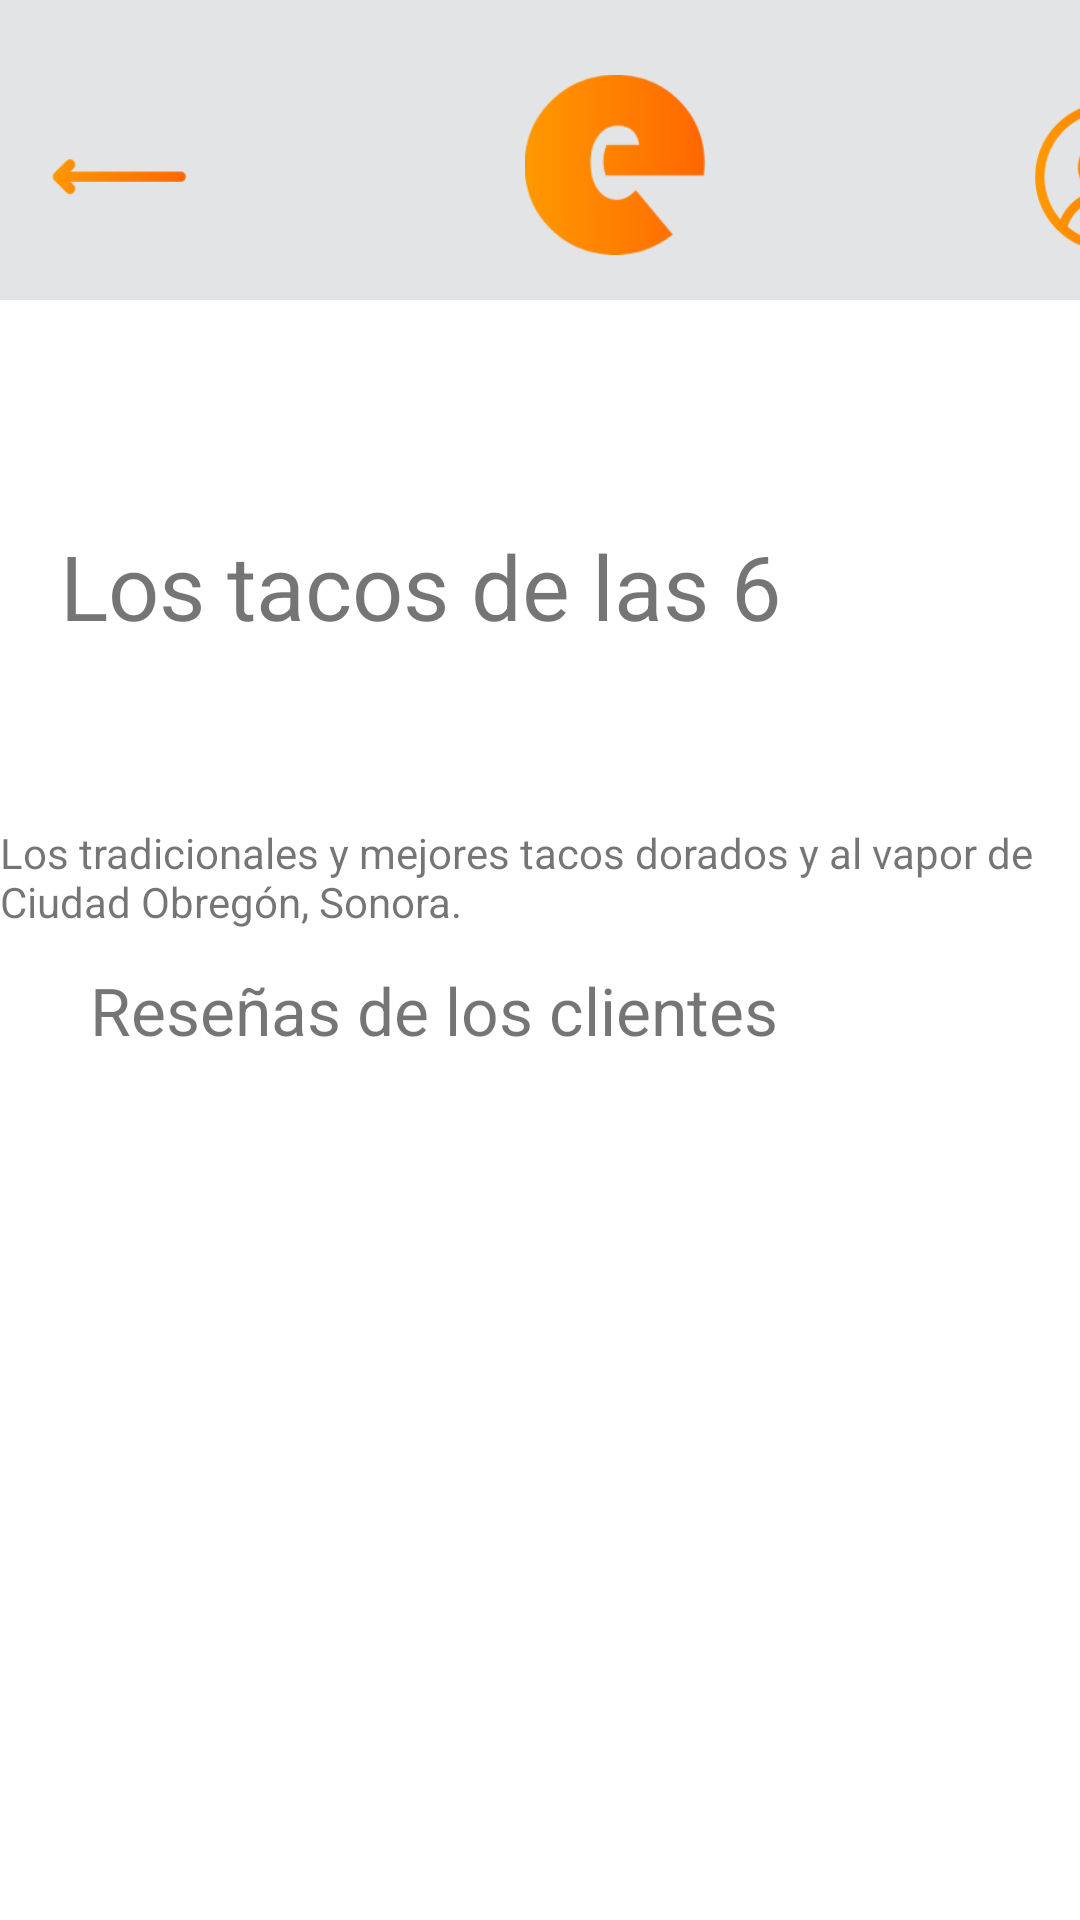

Where icons sit on this 1080x1920 app screen, as (x1, y1, x2, y2):
retroceso: (52, 159, 186, 194)
